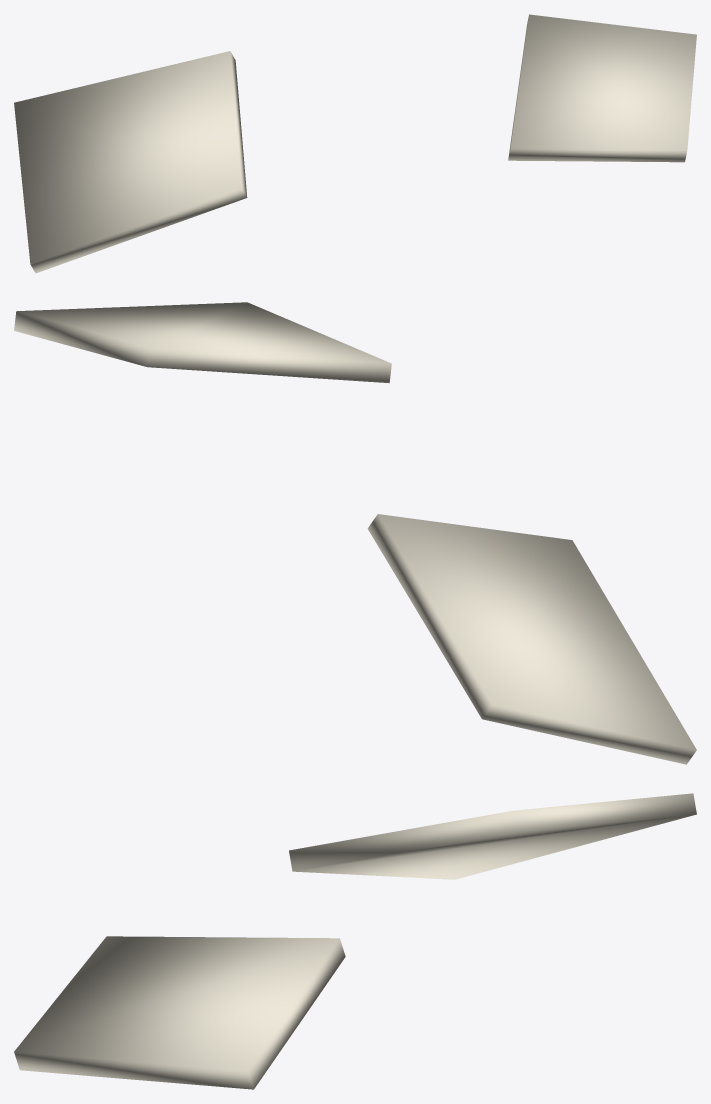
The picture shows the model from 3 angles, top to bottom: view 1: azimuth 30°, elevation 25°; view 2: azimuth 150°, elevation 25°; view 3: azimuth 270°, elevation 25°; orthographic projection. The views are drawn at different scales.
Visible parts, largest first — view 1: ZA_5cca870d4913e642; view 2: ZA_5cca870d4913e642; view 3: ZA_5cca870d4913e642.
Part boxes in pixels (<box>): ZA_5cca870d4913e642: <box>14,14,696,273</box>; ZA_5cca870d4913e642: <box>14,302,696,764</box>; ZA_5cca870d4913e642: <box>14,793,696,1089</box>.
Size of the model in its own units: 0.0223 by 0.00641 by 0.0159.
